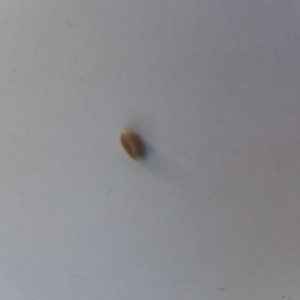trigo: (115, 126, 146, 162)
